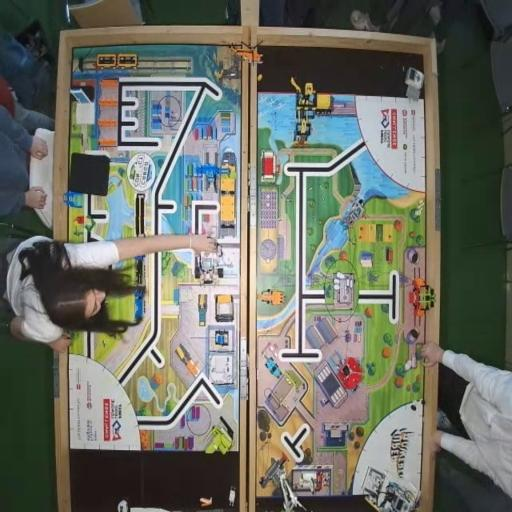lego_robot: (361, 465, 422, 512), (194, 243, 224, 286)
